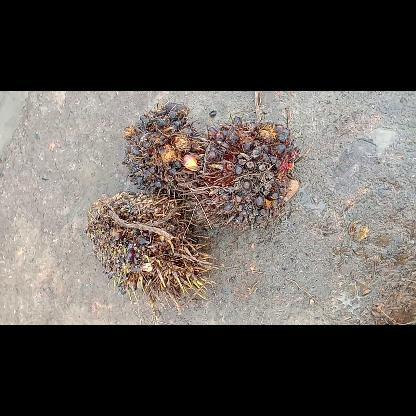TBS abnormal: (86, 192, 218, 308), (181, 116, 299, 231), (121, 102, 205, 196)
